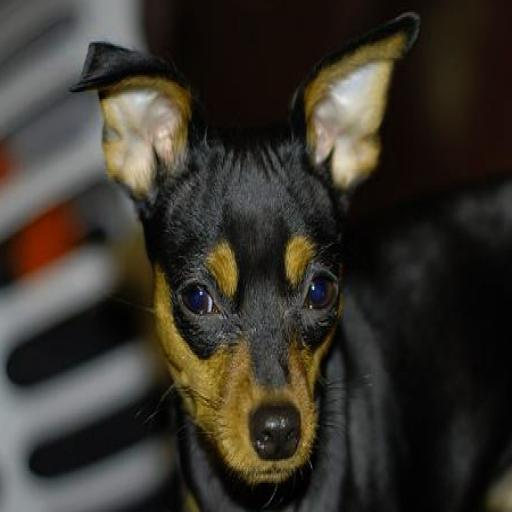dog_face: (84, 44, 411, 480)
